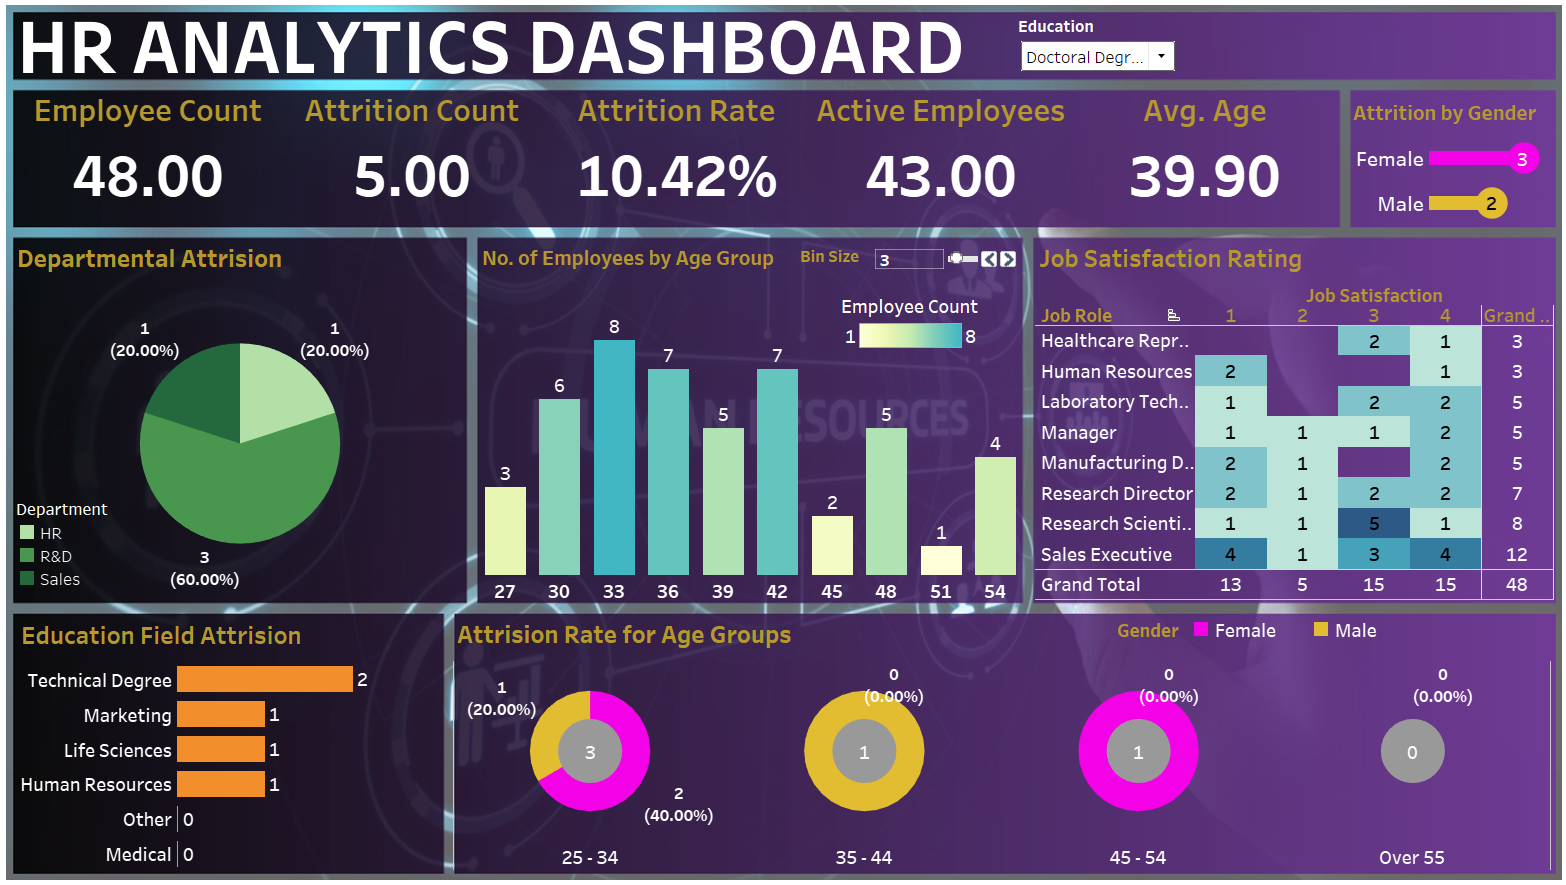

The dashboard page shown, as its layout file describes it:
{"tool":"tableau","page":{"name":"HR Analytics Dashboard","canvas":[1580,900],"ordinal":0},"visuals":[{"type":"image","param":"C:/Users/USER/Downloads/HR background.png","box":[8,8,1564,884]},{"type":"text","box":[19,16,1543,70]},{"type":"filter","title":"Departmental Attrision","param":"[federated.1nbl0gr01jauds1470zjv0asnzvc].[none:Education:nk]","box":[1024,22,160,61]},{"type":"worksheet","title":"KPI","mark":"Automatic","box":[22,96,1321,129]},{"type":"worksheet","title":"Attrition by Gender","mark":"Automatic","rows":["Gender"],"cols":["Calculation_241505542651785216","Calculation_241505542651785216"],"box":[1355,101,206,131]},{"type":"worksheet","title":"Departmental Attrision","mark":"Pie","box":[19,244,454,365]},{"type":"worksheet","title":"Job Satisfaction Rating","mark":"Square","rows":["Job Role"],"cols":["Job Satisfaction"],"box":[1041,244,519,363]},{"type":"worksheet","title":"No. of Employees by Age Group","mark":"Automatic","rows":["Employee Count"],"cols":["Age (bin)"],"box":[484,246,545,365]},{"type":"parameter","param":"[Parameters].[Parameter 1]","box":[806,253,219,42]},{"type":"legend","title":"No. of Employees by Age Group","param":"[federated.1nbl0gr01jauds1470zjv0asnzvc].[sum:Employee Count:qk]","box":[847,300,140,100]},{"type":"legend","title":"Departmental Attrision","param":"[federated.1nbl0gr01jauds1470zjv0asnzvc].[none:Department:nk]","box":[22,505,117,101]},{"type":"worksheet","title":"Attrision Rate for Age Groups ","mark":"Pie","rows":["Calculation_241505542704406532","Calculation_241505542704406532"],"cols":["CF_age band"],"box":[459,620,1098,258]},{"type":"worksheet","title":"Education Field Attrision","mark":"Automatic","rows":["Education Field"],"cols":["Calculation_241505542651785216"],"box":[23,621,424,257]},{"type":"legend","title":"Attrision Rate for Age Groups ","param":"[federated.1nbl0gr01jauds1470zjv0asnzvc].[none:Gender:nk]","box":[1123,624,435,32]}]}

Visuals, with their boxes in screenshot pixels (x1, y1, x2, y2), scaled from the page's 1580x900 canvas onto the 1566x885 screenshot:
image: <region>8, 8, 1558, 877</region>
text: <region>19, 16, 1548, 85</region>
"Departmental Attrision" filter: <region>1015, 22, 1174, 82</region>
"KPI" worksheet: <region>22, 94, 1331, 221</region>
"Attrition by Gender" worksheet: <region>1343, 99, 1547, 228</region>
"Departmental Attrision" worksheet (Pie marks): <region>19, 240, 469, 599</region>
"Job Satisfaction Rating" worksheet (Square marks): <region>1032, 240, 1546, 597</region>
"No. of Employees by Age Group" worksheet: <region>480, 242, 1020, 601</region>
parameter: <region>799, 249, 1016, 290</region>
"No. of Employees by Age Group" legend: <region>839, 295, 978, 393</region>
"Departmental Attrision" legend: <region>22, 497, 138, 596</region>
"Attrision Rate for Age Groups " worksheet (Pie marks): <region>455, 610, 1543, 863</region>
"Education Field Attrision" worksheet: <region>23, 611, 443, 863</region>
"Attrision Rate for Age Groups " legend: <region>1113, 614, 1544, 645</region>
